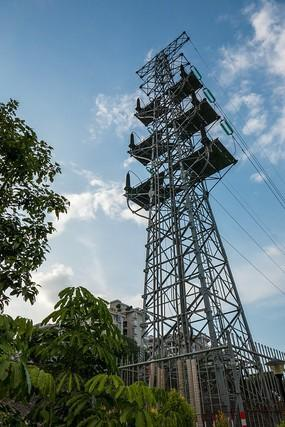power_tower: (129, 25, 258, 398)
